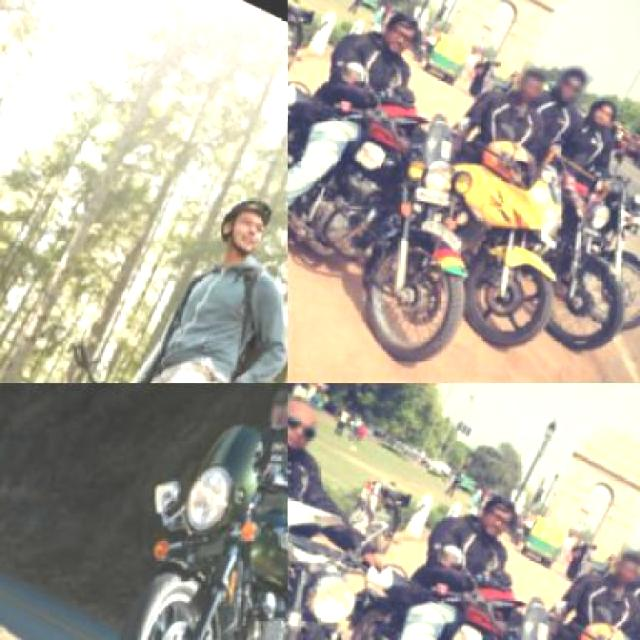With Helmet: (198, 186, 280, 271)
Without Helmet: (362, 0, 431, 68), (459, 483, 527, 549), (288, 386, 332, 468), (539, 61, 593, 117), (501, 64, 548, 116), (597, 546, 638, 599), (574, 95, 620, 142)
